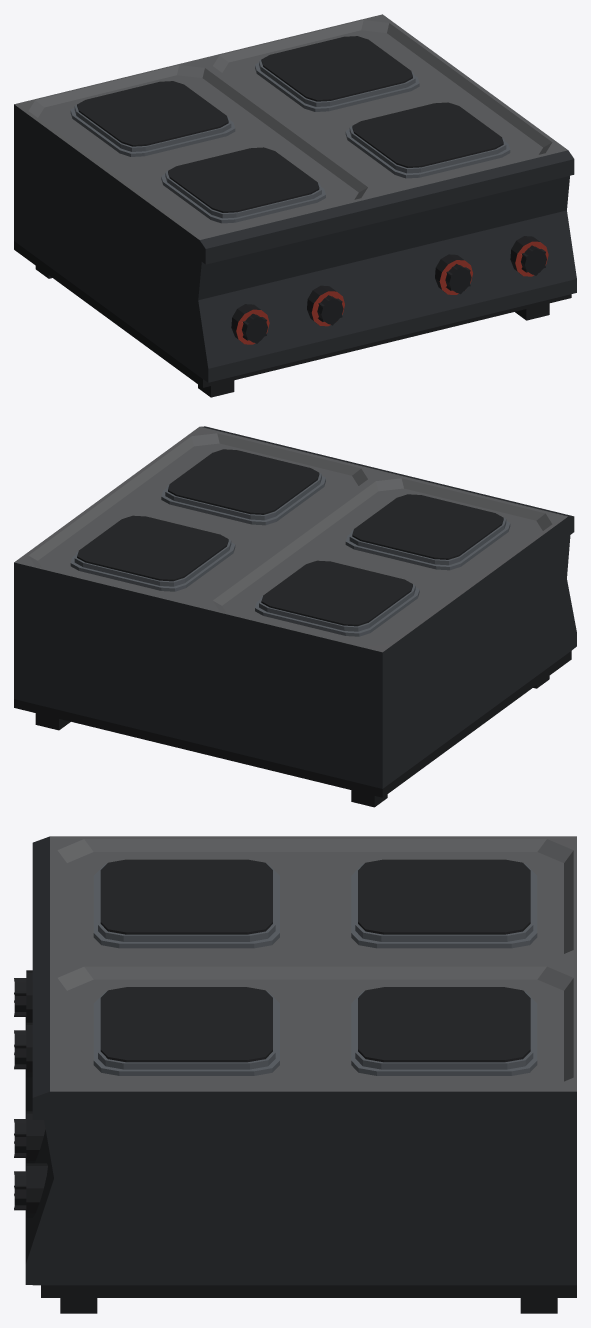
The model's file is tabletopgasstovelarge_01_E.gltf.
The picture shows the model from 3 angles, top to bottom: view 1: azimuth 30°, elevation 25°; view 2: azimuth 150°, elevation 25°; view 3: azimuth 270°, elevation 25°; orthographic projection. The views are drawn at different scales.
Parts seen in each view (by area): view 1: tabletopgasstovelarge_01_E, Swithcfortabletopgasstovelarge_03_E, Swithcfortabletopgasstovelarge_04_E, Swithcfortabletopgasstovelarge_01_E, Swithcfortabletopgasstovelarge_02_E; view 2: tabletopgasstovelarge_01_E; view 3: tabletopgasstovelarge_01_E.
Part boxes in pixels (x1=…): tabletopgasstovelarge_01_E: x1=14, y1=14, x2=576, y2=397; Swithcfortabletopgasstovelarge_03_E: x1=445, y1=264, x2=471, y2=294; Swithcfortabletopgasstovelarge_04_E: x1=521, y1=245, x2=546, y2=275; Swithcfortabletopgasstovelarge_01_E: x1=242, y1=313, x2=267, y2=343; Swithcfortabletopgasstovelarge_02_E: x1=317, y1=295, x2=343, y2=325; tabletopgasstovelarge_01_E: x1=14, y1=426, x2=576, y2=807; tabletopgasstovelarge_01_E: x1=25, y1=836, x2=576, y2=1313.
Size of the model in its own units: 0.5 by 0.216 by 0.4661.
Materials: 1 (1 with a texture image).
